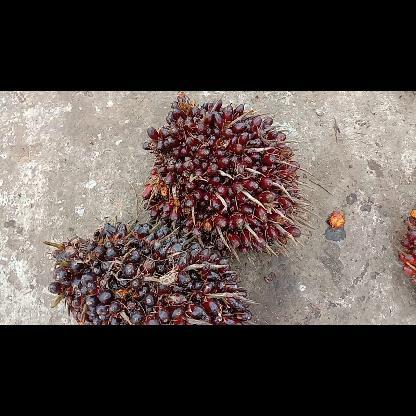Kurang masak: (47, 220, 254, 324)
TBS masak: (140, 92, 304, 256)
